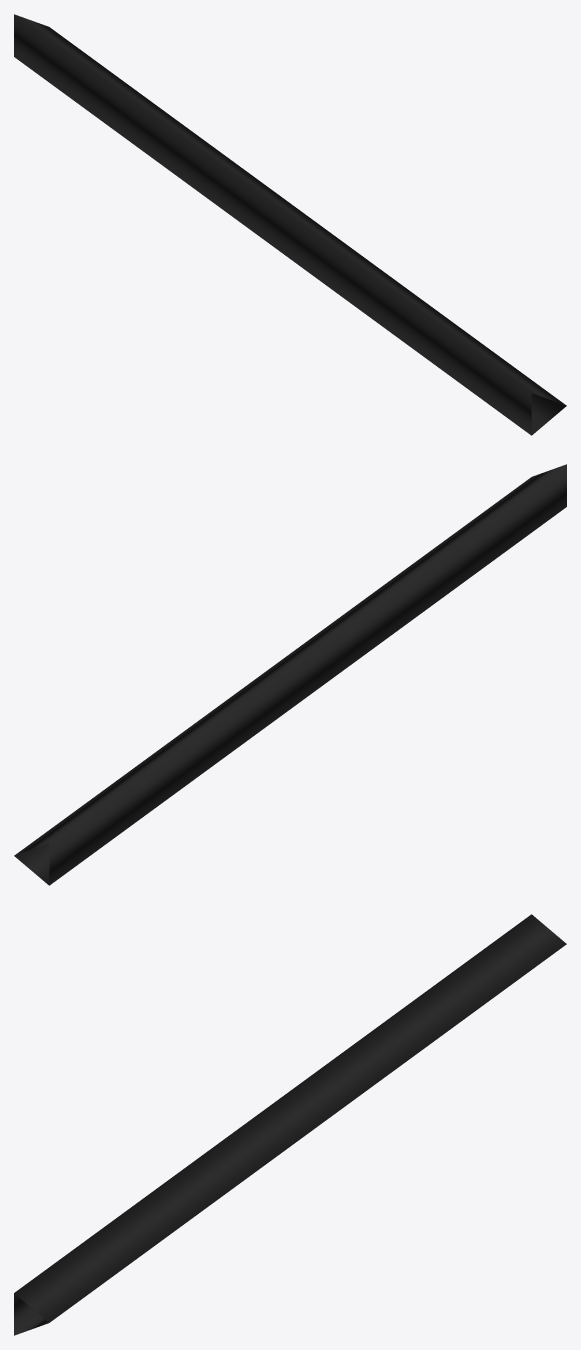
File: Electric_cable.FBX
3 renders of one model, top to bottom at view 1: azimuth 30°, elevation 25°; view 2: azimuth 150°, elevation 25°; view 3: azimuth 330°, elevation 25°, orthographic.
Visible parts, largest first — view 1: Electric_cable; view 2: Electric_cable; view 3: Electric_cable.
Boxes of the visible parts, x1,y1,x2,y2 form: Electric_cable: (14, 14, 566, 435); Electric_cable: (14, 464, 566, 885); Electric_cable: (14, 914, 566, 1335).
Bounding box in the file's own units: 3.94 × 4.55 × 100.
